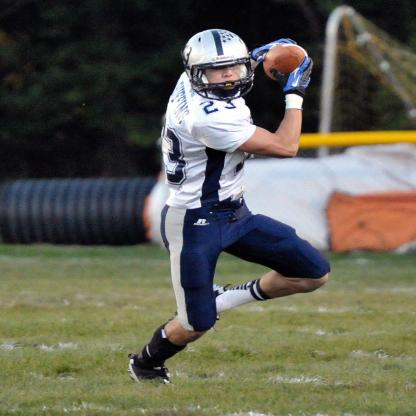Helmet: (182, 29, 264, 98)
